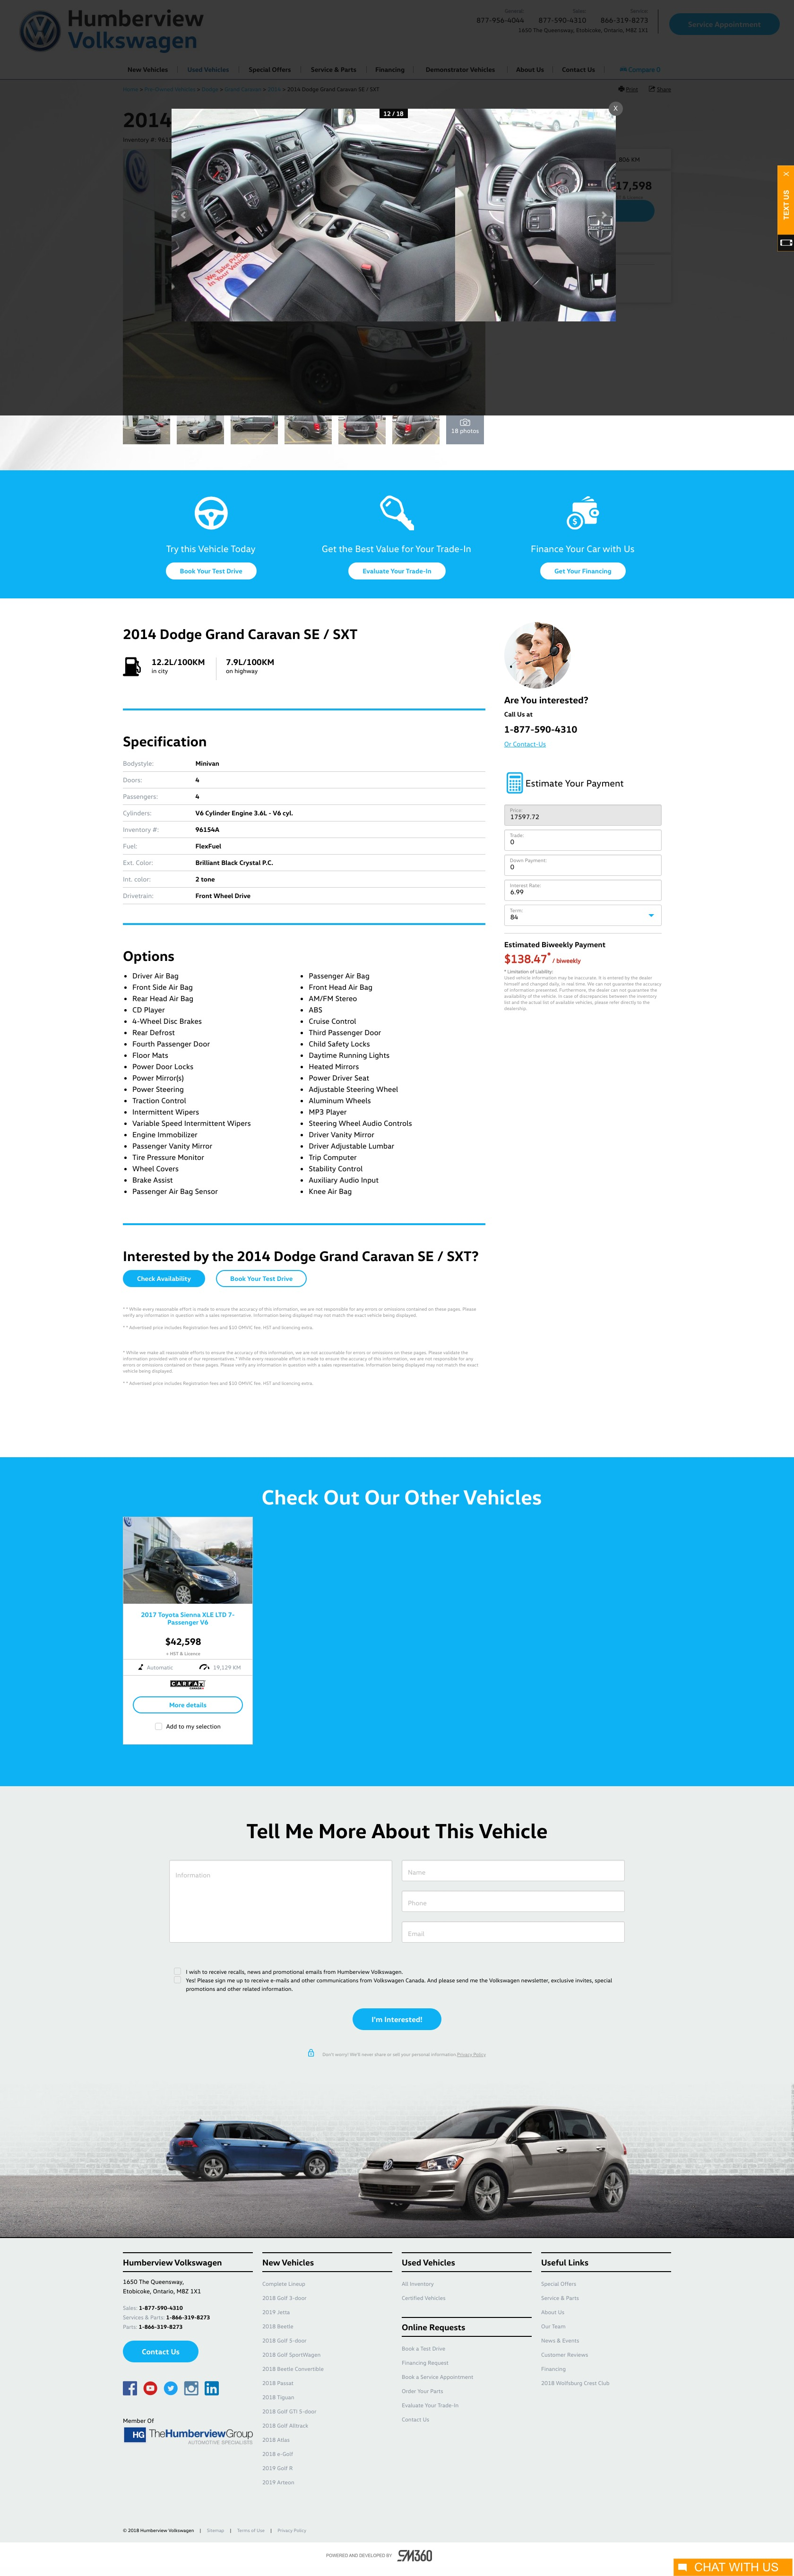car: (444, 412, 487, 447)
